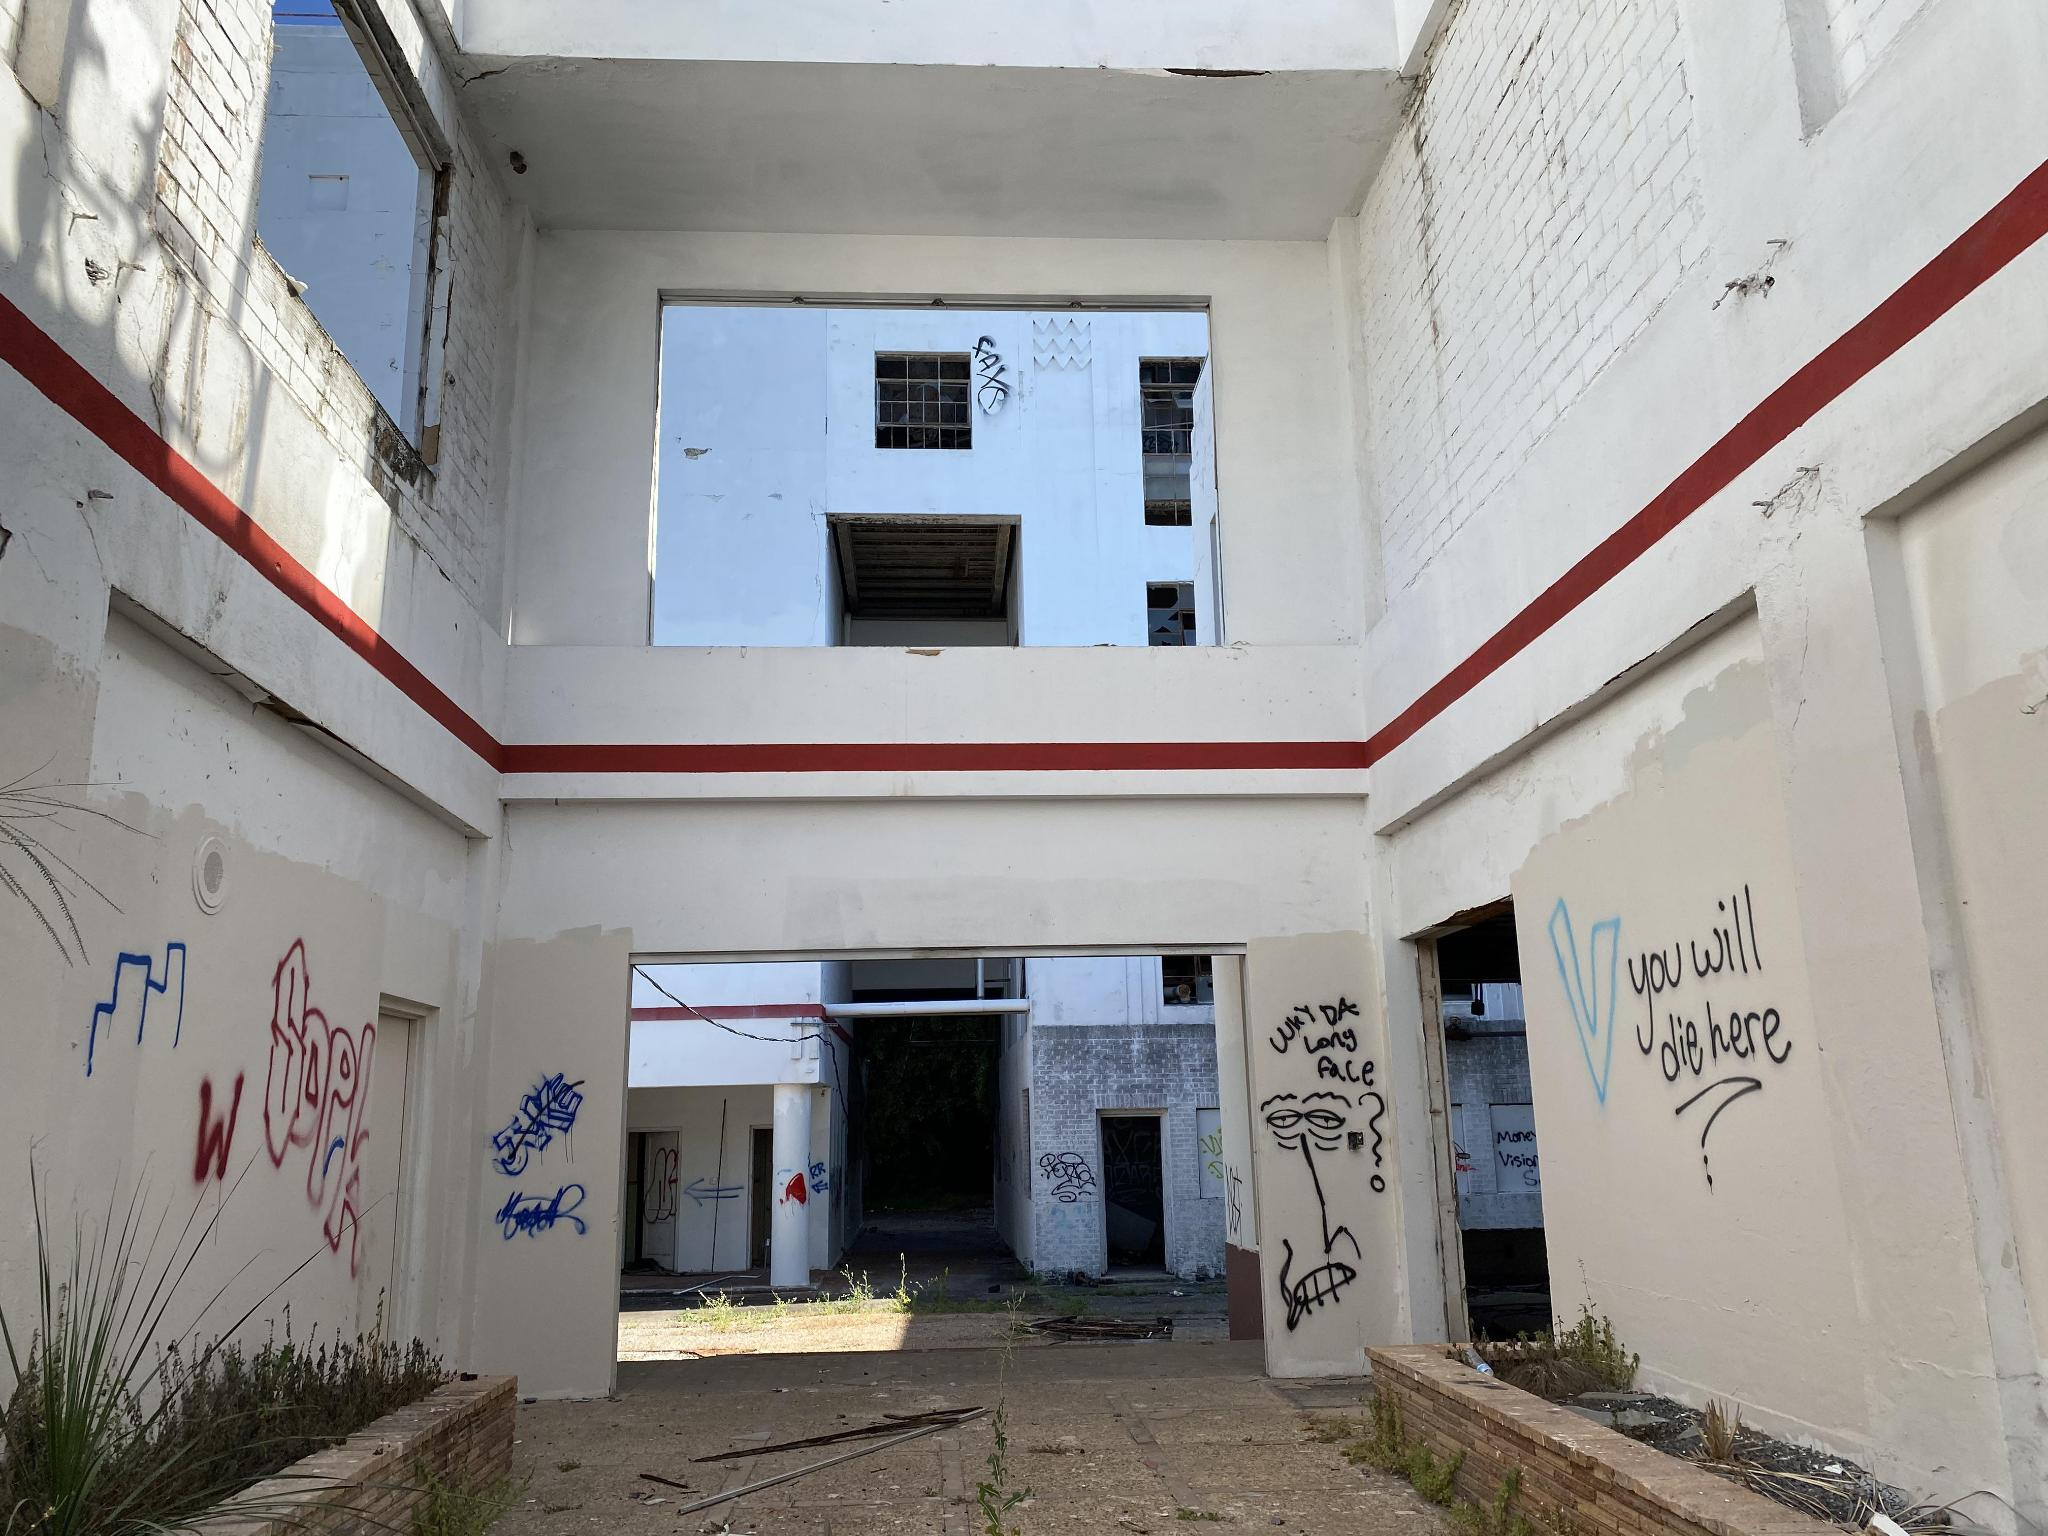graffiti: (1511, 874, 1811, 1231), (1253, 992, 1398, 1334), (264, 936, 373, 1279), (477, 1068, 601, 1262), (79, 923, 198, 1092), (190, 1073, 255, 1189), (964, 316, 1021, 429), (1034, 1149, 1105, 1207), (640, 1139, 682, 1223), (774, 1170, 818, 1217), (685, 1175, 743, 1208)
